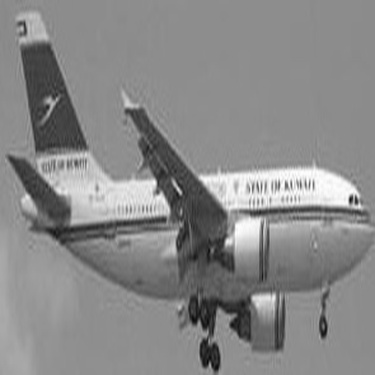airplane: (11, 9, 364, 356)
